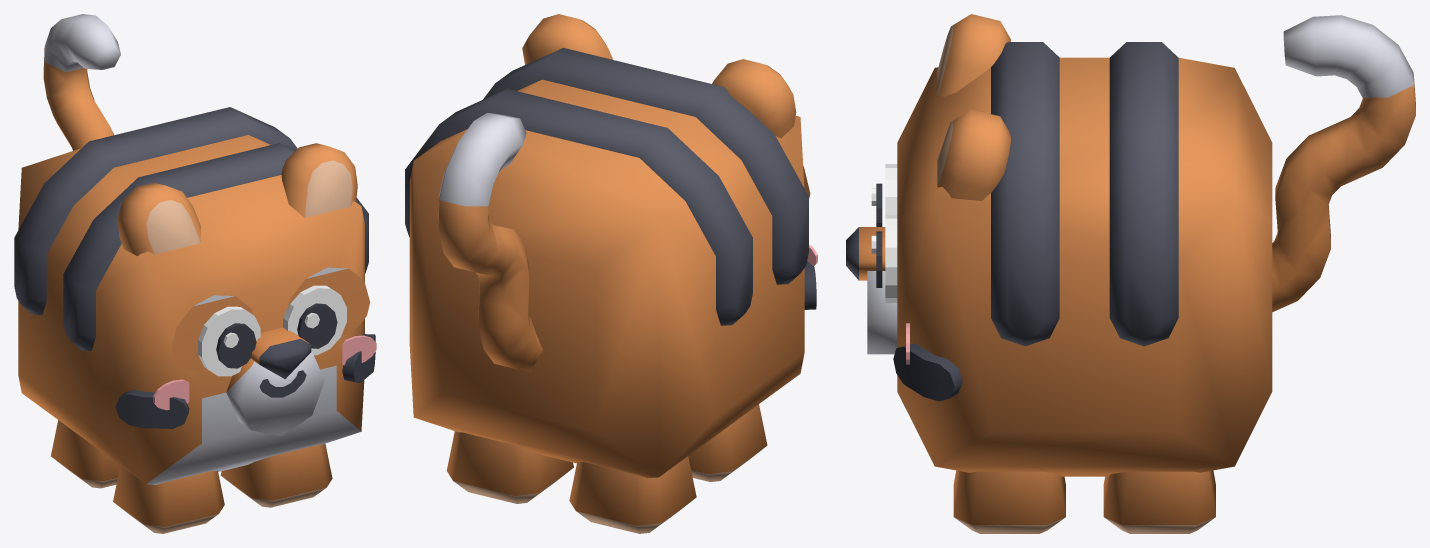
The model's file is tiger.glb.
3 views of the same model, side by side, from view 1: azimuth 30°, elevation 25°; view 2: azimuth 150°, elevation 25°; view 3: azimuth 270°, elevation 25° (orthographic). The views are drawn at different scales.
Visible parts, largest first — view 1: body, tail, leg-front-right, leg-front-left, leg-back-right; view 2: body, tail, leg-back-right, leg-back-left, leg-front-right; view 3: body, tail, leg-back-left, leg-front-left.
Boxes of the visible parts, box(x1,y1,x2,y2) form: body: box(14, 107, 376, 484); tail: box(43, 14, 120, 150); leg-front-right: box(113, 465, 224, 533); leg-front-left: box(220, 444, 332, 507); leg-back-right: box(51, 420, 120, 488); body: box(405, 14, 817, 478); tail: box(438, 112, 542, 371); leg-back-right: box(569, 456, 696, 533); leg-back-left: box(446, 431, 573, 503); leg-front-right: box(688, 404, 767, 481); body: box(846, 14, 1272, 476); tail: box(1272, 15, 1415, 312); leg-back-left: box(1103, 470, 1215, 533); leg-front-left: box(953, 470, 1065, 533).
Bounding box in the file's own units: 1.35 × 1.71 × 1.9.
1 material, 1 textured.
